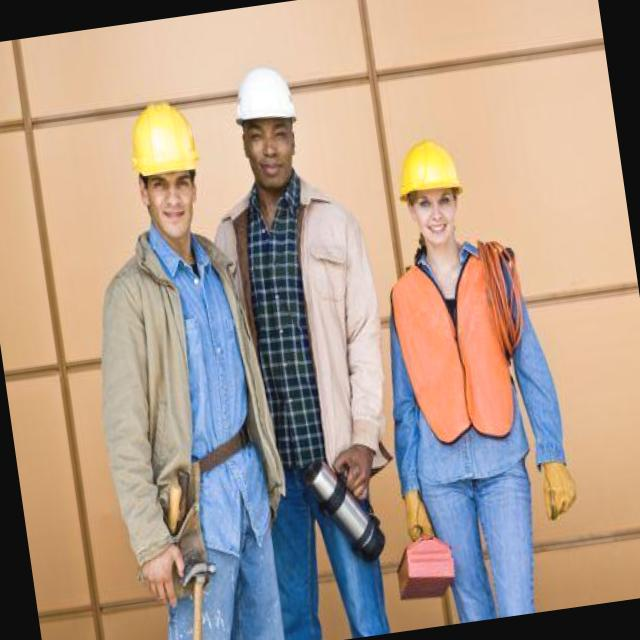helmet: (117, 98, 207, 200), (221, 56, 305, 142), (388, 131, 471, 202)
no-vest: (213, 172, 398, 498), (96, 239, 284, 529)
vest: (372, 241, 540, 458)
